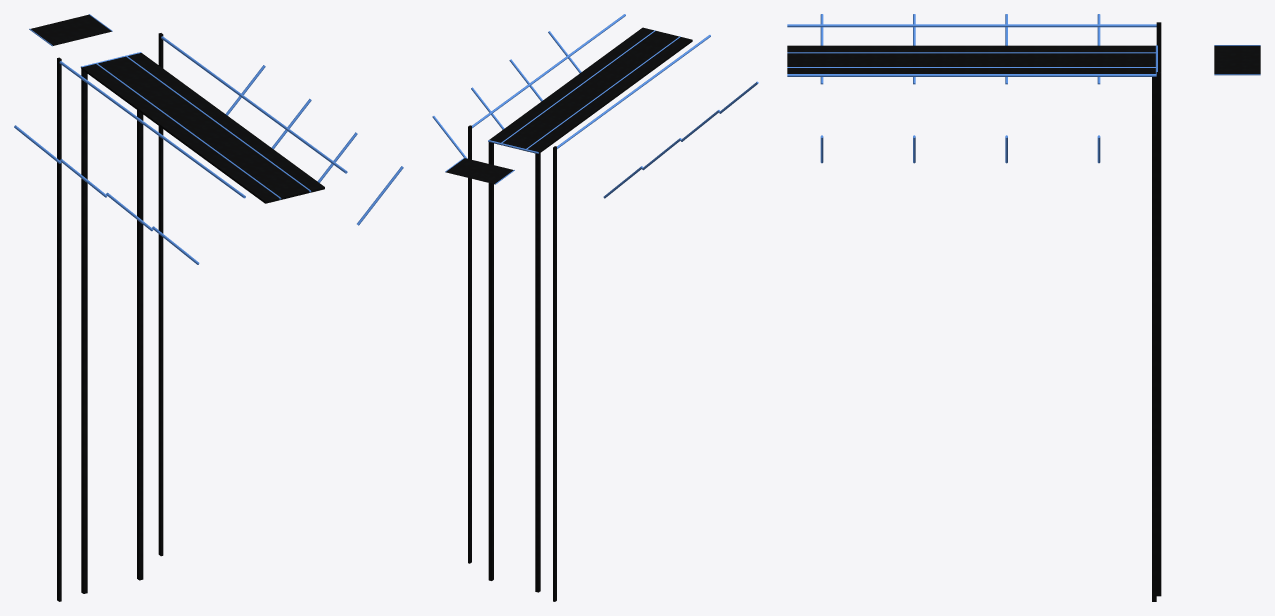
File: PlatformV3.dae
The picture shows the model from 3 angles, left to right: view 1: azimuth 30°, elevation 25°; view 2: azimuth 150°, elevation 25°; view 3: azimuth 270°, elevation 25°; orthographic projection. The views are drawn at different scales.
Parts seen in each view (by area): view 1: Lane, LaneColumnRight, LaneColumnLeft, ColumnLeft, ColumnRight, PlayerPlace, GlowLeft0, GlowRight0; view 2: Lane, LaneColumnRight, LaneColumnLeft, ColumnRight, ColumnLeft, PlayerPlace, GlowLeft0, GlowRight0; view 3: Lane, ColumnLeft, LaneColumnLeft, GlowRight0, PlayerPlace, GlowLeft0, GlowRightLane.
Part boxes in pixels (x1,y1,x2,y2): Lane: (81,53,324,203); LaneColumnRight: (81,66,87,593); LaneColumnLeft: (137,53,143,580); ColumnLeft: (158,33,163,556); ColumnRight: (57,57,61,601); PlayerPlace: (31,14,111,45); GlowLeft0: (161,36,347,173); GlowRight0: (59,61,245,198); Lane: (489,27,692,153); LaneColumnRight: (535,150,540,592); LaneColumnLeft: (488,139,493,580); ColumnRight: (553,146,556,601); ColumnLeft: (468,125,471,563); PlayerPlace: (446,158,513,184); GlowLeft0: (472,14,625,128); GlowRight0: (557,35,710,148); Lane: (787,45,1155,73); ColumnLeft: (1156,72,1161,596); LaneColumnLeft: (1152,73,1156,601); GlowRight0: (787,24,1156,27); PlayerPlace: (1214,45,1260,74); GlowLeft0: (787,74,1156,76); GlowRightLane: (787,52,1156,53).
Size of the model in its own units: 12.61 by 20.5 by 26.
3 materials, 1 textured.
